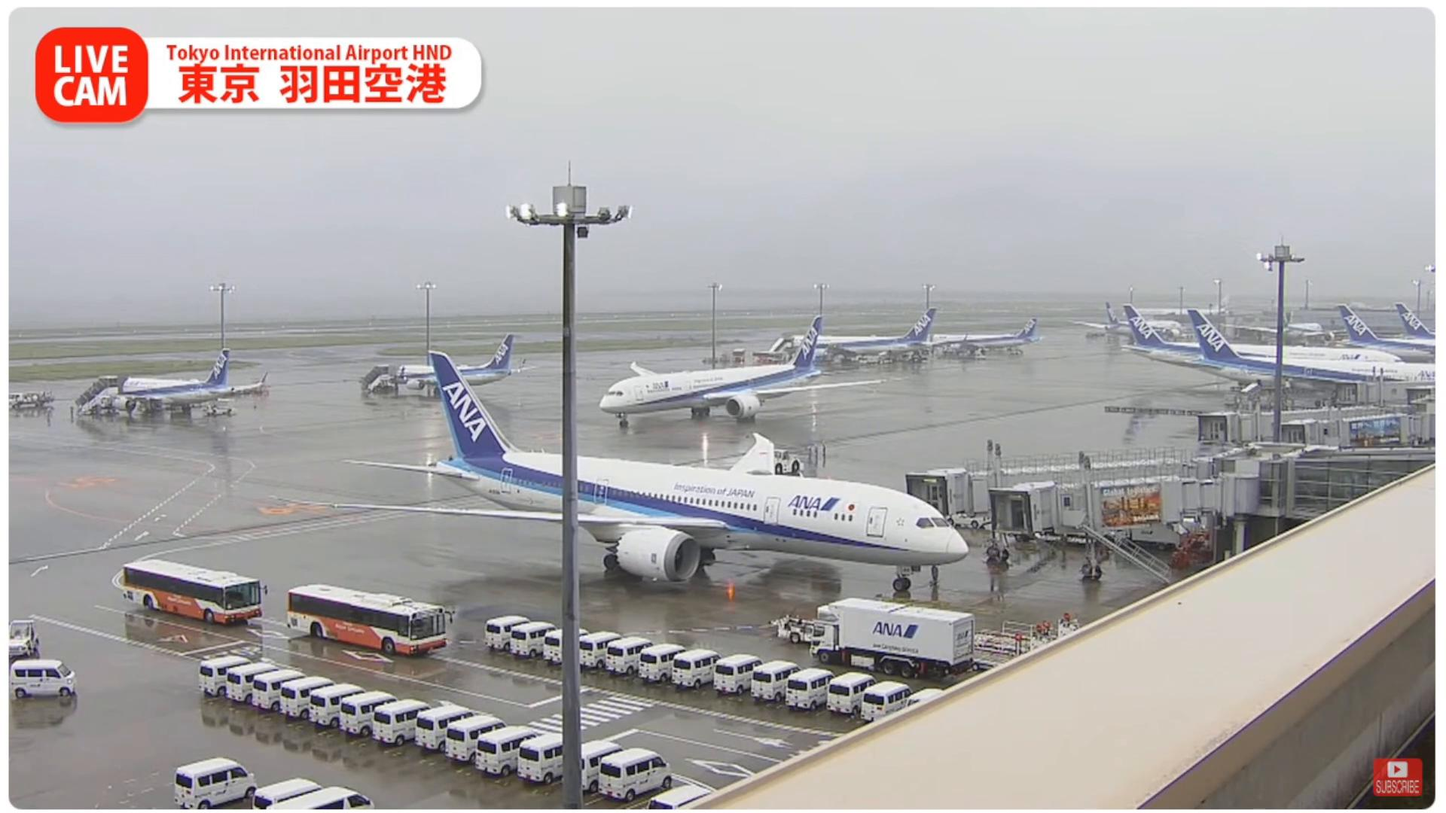APS: (775, 449, 805, 473)
Aerobridge: (906, 455, 1210, 515), (990, 474, 1260, 535)
Airplane: (270, 351, 970, 592)
Catering: (809, 594, 973, 678)
JCPL: (969, 627, 1049, 669), (1000, 611, 1079, 642)
Skyloader: (776, 607, 818, 644)
Window: (1292, 458, 1433, 516)
